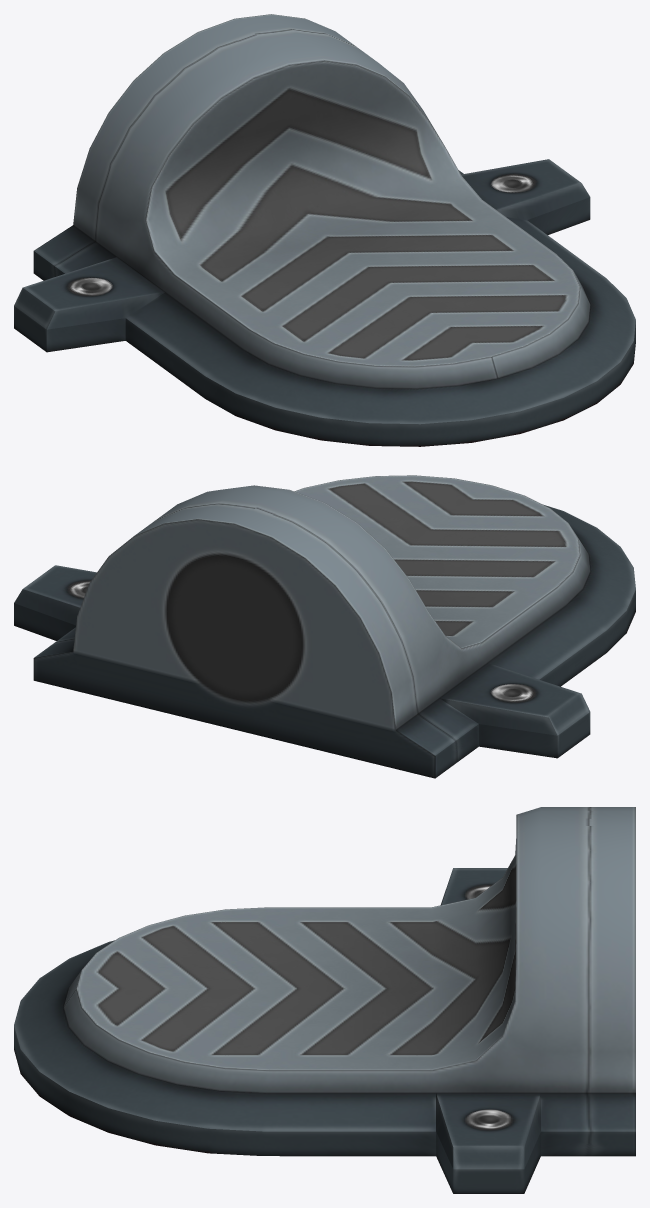
Rendered from Jumppad1.fbx.
3 renders of one model, top to bottom at view 1: azimuth 30°, elevation 25°; view 2: azimuth 150°, elevation 25°; view 3: azimuth 270°, elevation 25°, orthographic. The views are drawn at different scales.
Visible parts, largest first — view 1: Jumppad1; view 2: Jumppad1; view 3: Jumppad1.
Boxes of the visible parts, x1=… form: Jumppad1: x1=14, y1=14, x2=635, y2=446; Jumppad1: x1=14, y1=475, x2=635, y2=778; Jumppad1: x1=14, y1=807, x2=635, y2=1193.
Size of the model in its own units: 138 by 49.86 by 126.
